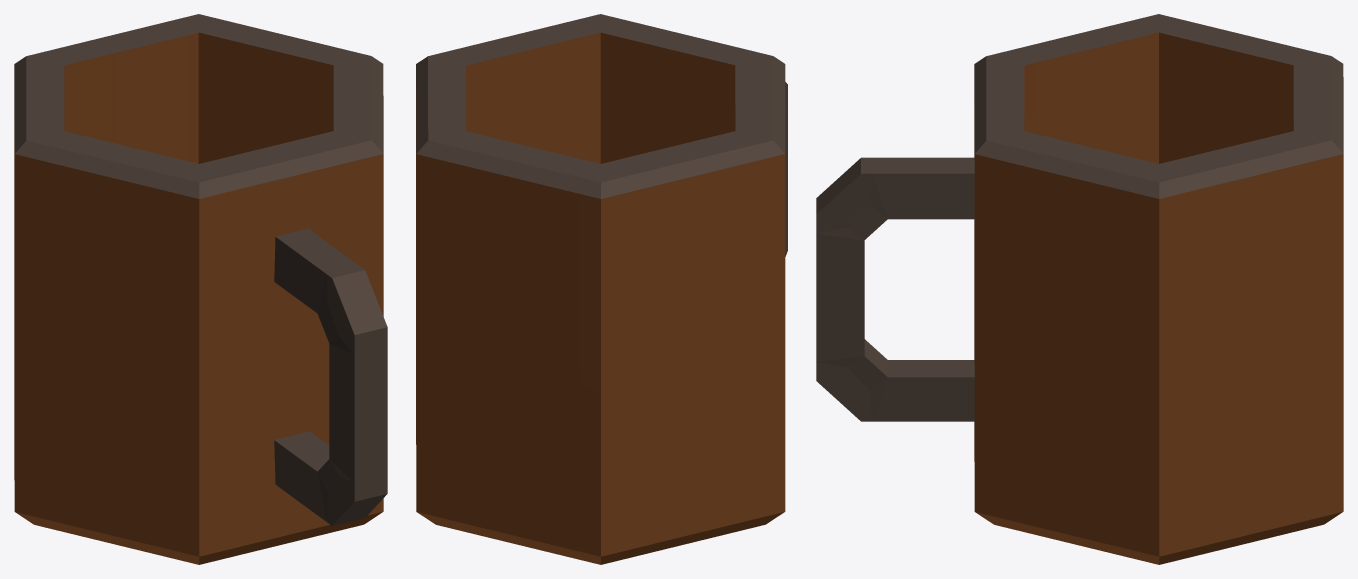
The model's file is cup.fbx.
The picture shows the model from 3 angles, left to right: view 1: azimuth 30°, elevation 25°; view 2: azimuth 150°, elevation 25°; view 3: azimuth 270°, elevation 25°; orthographic projection.
Visible parts, largest first — view 1: cup; view 2: cup; view 3: cup.
Boxes of the visible parts, <box> form: cup: <box>14,14,387,564</box>; cup: <box>416,14,787,564</box>; cup: <box>816,14,1343,564</box>.
Bounding box in the file's own units: 21.69 × 21.69 × 26.84.
